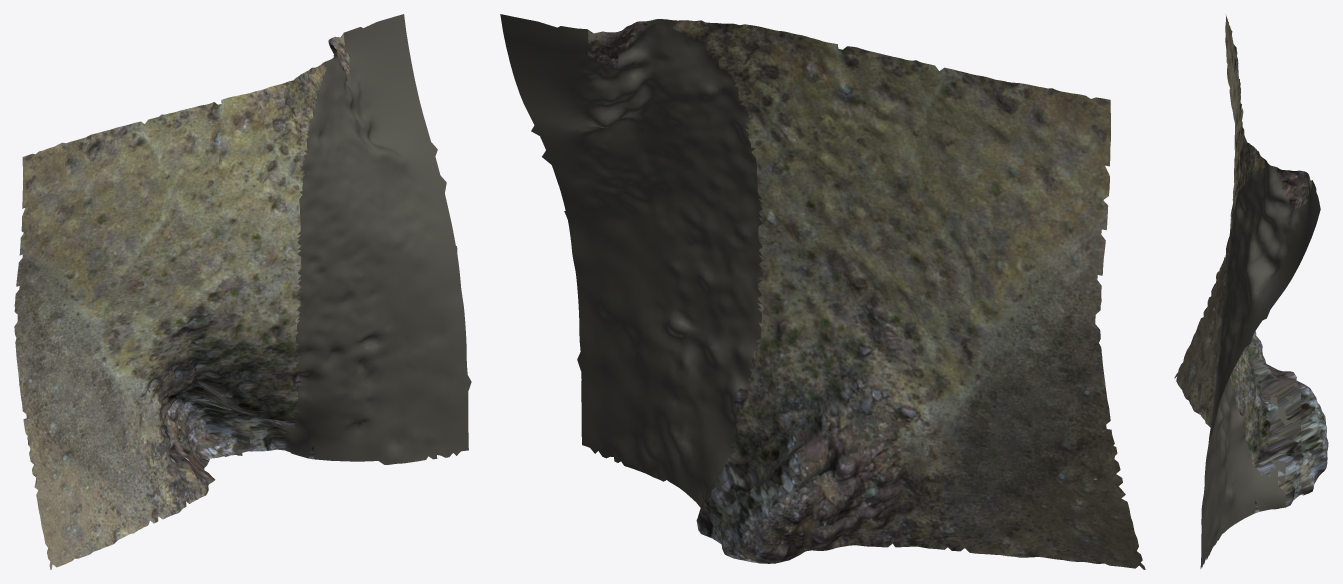
File: tile_32.obj
3 renders of one model, left to right at view 1: azimuth 30°, elevation 25°; view 2: azimuth 150°, elevation 25°; view 3: azimuth 270°, elevation 25°, orthographic. The views are drawn at different scales.
Bounding box in the file's own units: 1.97 × 1.7 × 0.6494.
1 material, 1 textured.
